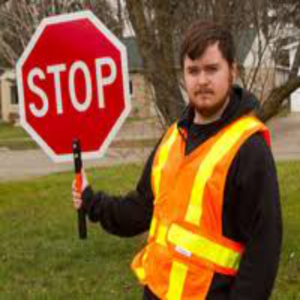STOP_SIGN: (15, 9, 131, 162)
